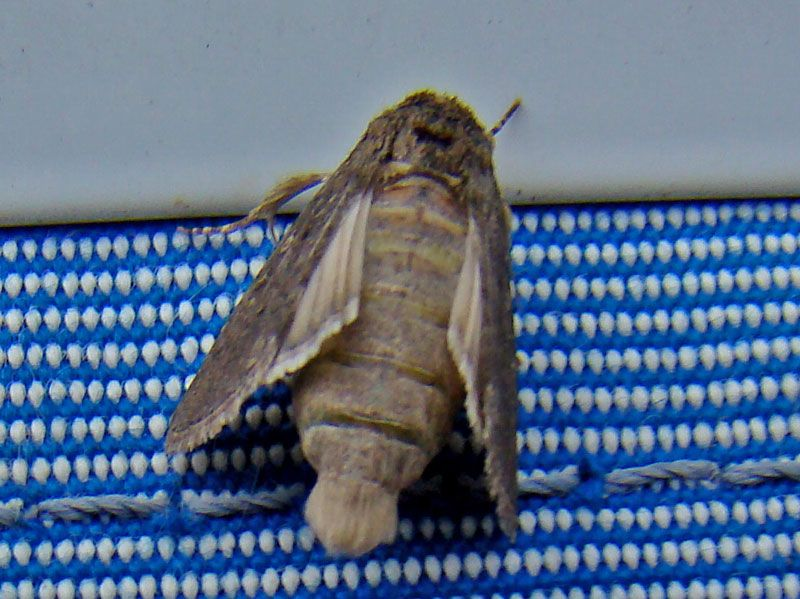Noctuidae: (166, 90, 521, 554)
